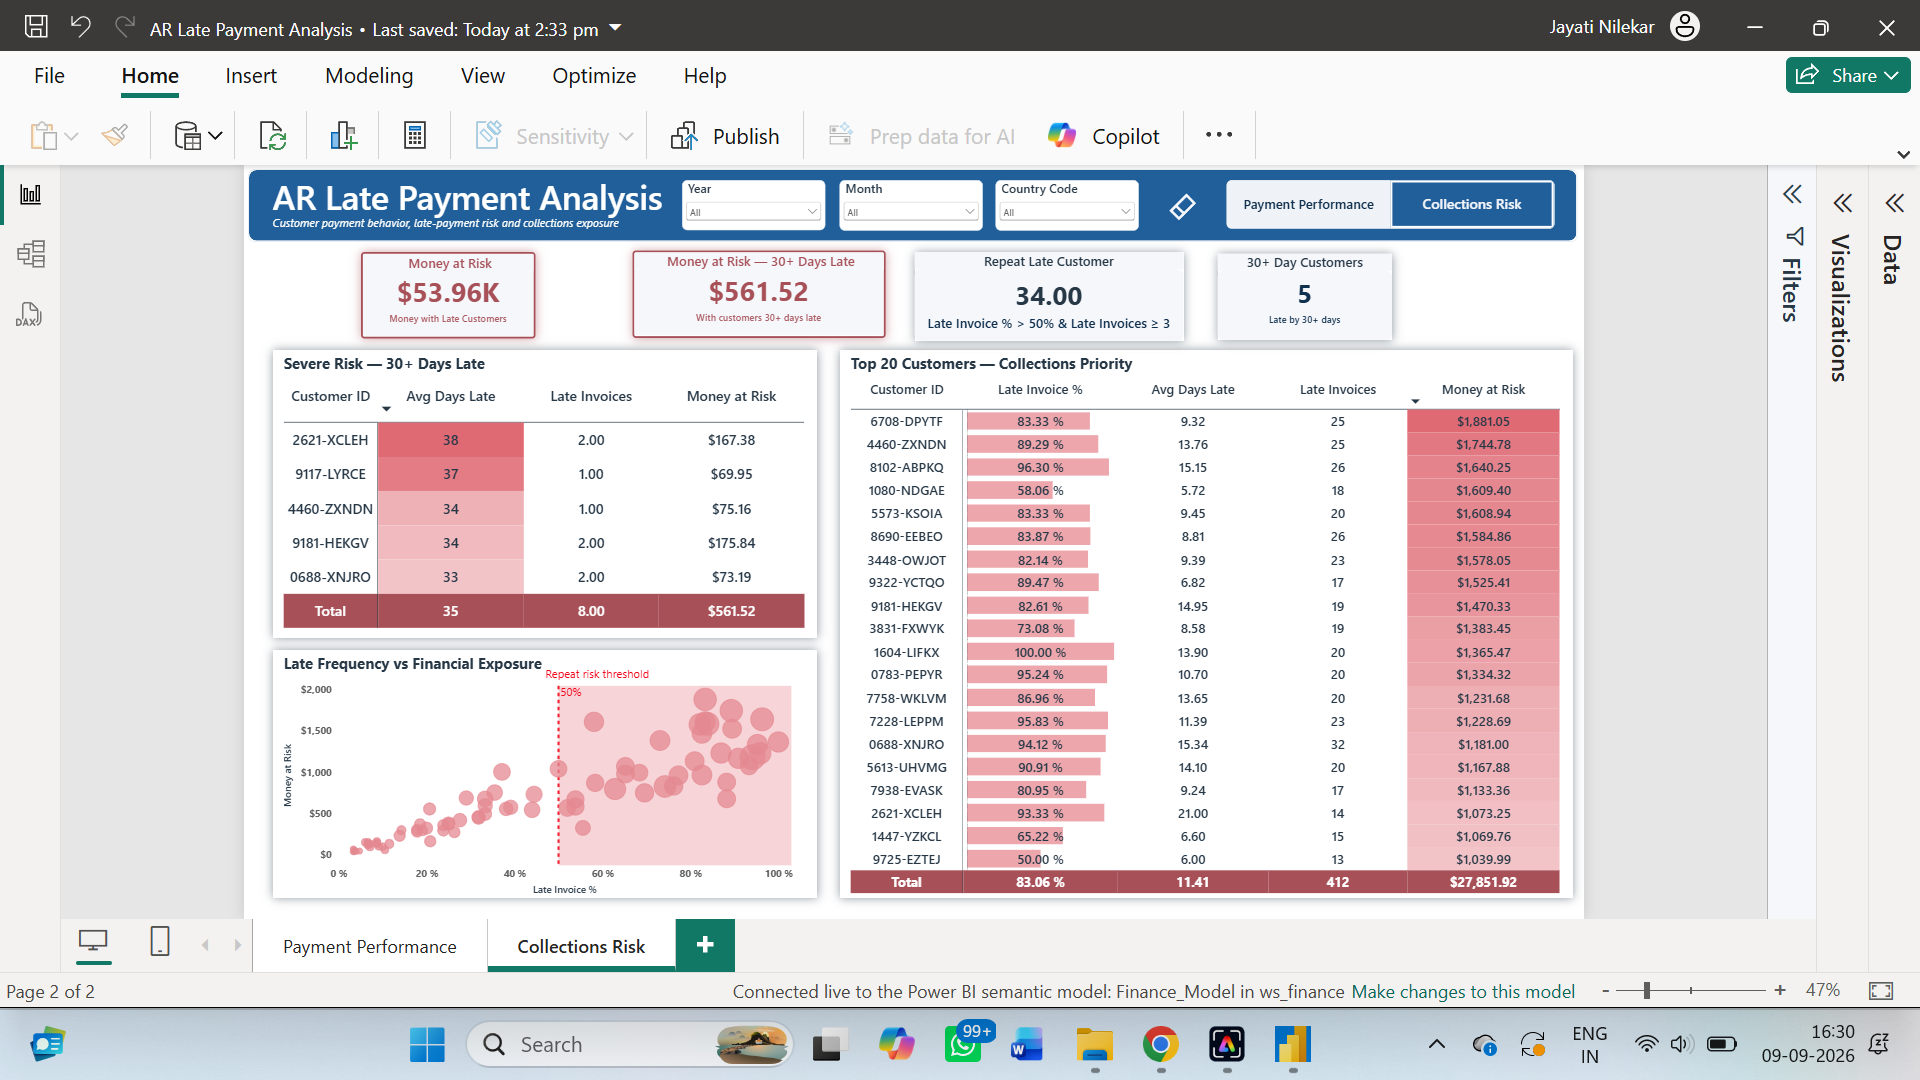

The dashboard page shown, as its layout file describes it:
{"tool":"powerbi","page":{"name":"Collections Risk","canvas":[1920,1080],"ordinal":1},"visuals":[{"type":"shape","box":[7,7,1903.5,103.5],"z":0},{"type":"textbox","box":[40.4,12.3,575.8,68.8],"z":1000},{"type":"textbox","box":[40.4,71.9,575.8,38.7],"z":2000},{"type":"cardVisual","title":"Money at Risk — 30+ Days Late","fields":{"Data":["silver_accounts.Money at Risk"]},"box":[557.5,122.5,362.5,125],"z":9000},{"type":"cardVisual","title":"Money at Risk","fields":{"Data":["silver_accounts.Money at Risk"]},"box":[167.5,125,250,124.1],"z":11000},{"type":"cardVisual","title":"Repeat Late Customer","fields":{"Data":["silver_accounts.Repeat Late Customer"]},"box":[960,125,385,127.5],"z":13000},{"type":"pivotTable","title":"Severe Risk — 30+ Days Late","fields":{"Rows":["silver_accounts.customer_id"],"Values":["silver_accounts.Customer Avg Days Late","silver_accounts.Late Invoices","silver_accounts.Money at Risk"]},"box":[40,265,780,412.5],"z":17000},{"type":"pivotTable","title":"Top 20 Customers — Collections Priority","fields":{"Rows":["silver_accounts.customer_id"],"Values":["silver_accounts.Late Invoice %","silver_accounts.Customer Avg Days Late","silver_accounts.Late Invoices","silver_accounts.Money at Risk"]},"box":[852.5,265,1050,785],"z":18000},{"type":"slicer","fields":{"Values":["silver_accounts.year"]},"box":[627.5,22.5,205,72],"z":18001},{"type":"slicer","fields":{"Values":["silver_accounts.country_code"]},"box":[1077.5,22.5,205,72.5],"z":18002},{"type":"slicer","fields":{"Values":["silver_accounts.month"]},"box":[852.5,22.5,205,72.5],"z":18003},{"type":"actionButton","box":[1300,30,90.2,60.2],"z":18004},{"type":"pageNavigator","box":[1407.5,22.5,470,70],"z":18005},{"type":"cardVisual","title":"30+ Day Customers","fields":{"Data":["Count(silver_accounts.customer_id)"]},"box":[1395.5,127.3,250,124.1],"z":18006},{"type":"scatterChart","title":"Late Frequency vs Financial Exposure","fields":{"Category":["silver_accounts.customer_id"],"Size":["silver_accounts.Late Invoices"],"X":["silver_accounts.Late Invoice %"],"Y":["silver_accounts.Money at Risk"]},"box":[40.6,694.3,780.2,355.5],"z":18007},{"type":"textbox","box":[431.1,717.8,168.9,26.7],"z":18008},{"type":"textbox","box":[453.3,744.4,33.3,26.7],"z":18009}]}

Visuals, with their boxes on the page's 1920x1080 design canvas (x1, y1, x2, y2). These are canvas units, not pixel positions in the 1920x1080 screenshot, which may show the page scaled, cropped or inside an application window:
shape: 7:7:1910:110
textbox: 40:12:616:81
textbox: 40:72:616:111
"Money at Risk — 30+ Days Late" cardVisual: 558:122:920:248
"Money at Risk" cardVisual: 168:125:418:249
"Repeat Late Customer" cardVisual: 960:125:1345:252
"Severe Risk — 30+ Days Late" pivotTable: 40:265:820:678
"Top 20 Customers — Collections Priority" pivotTable: 852:265:1902:1050
slicer - silver_accounts.year: 628:22:832:94
slicer - silver_accounts.country_code: 1078:22:1282:95
slicer - silver_accounts.month: 852:22:1058:95
actionButton: 1300:30:1390:90
pageNavigator: 1408:22:1878:92
"30+ Day Customers" cardVisual: 1396:127:1646:251
"Late Frequency vs Financial Exposure" scatterChart: 41:694:821:1050
textbox: 431:718:600:744
textbox: 453:744:487:771
